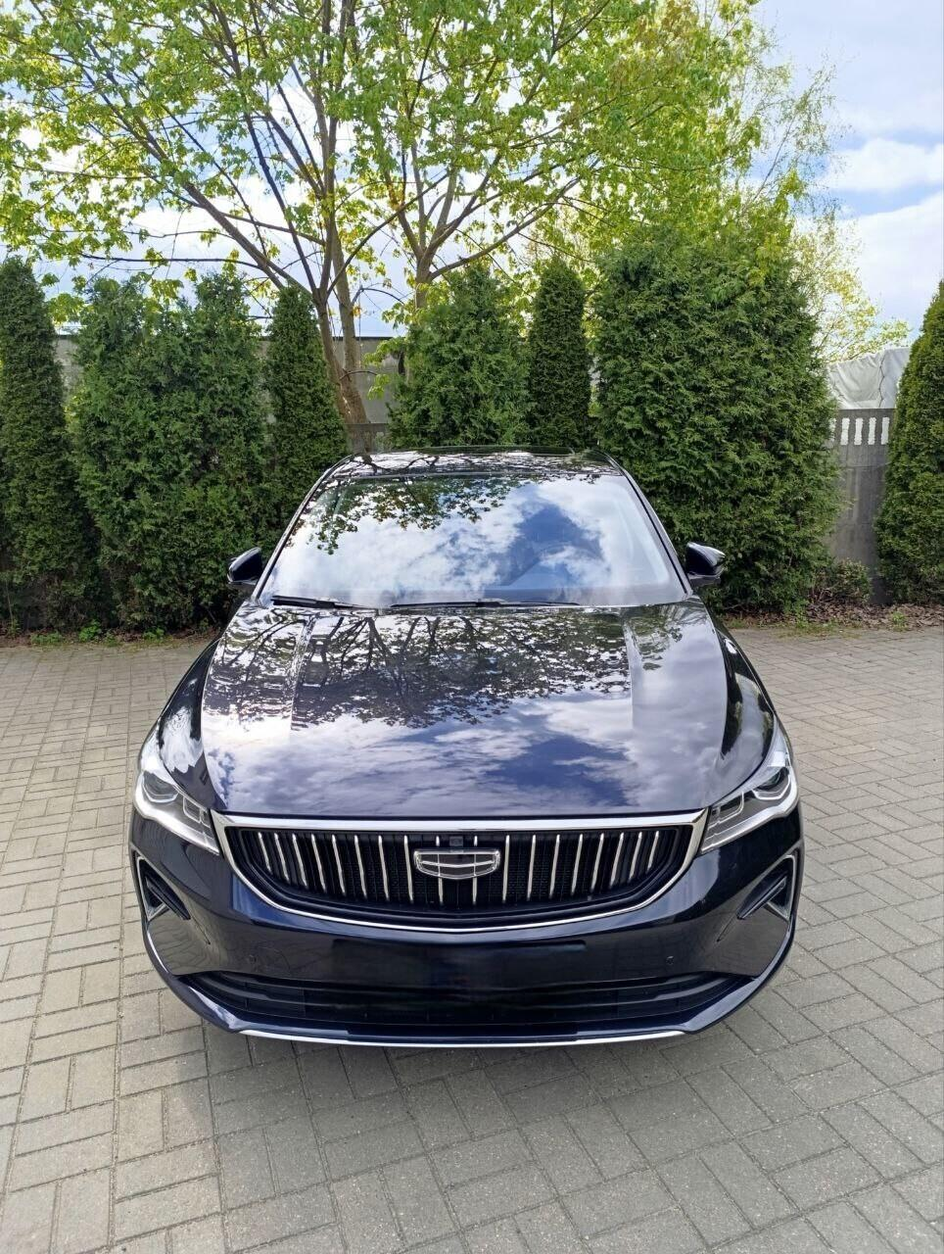Emgrand_2021: (124, 438, 806, 1079)
